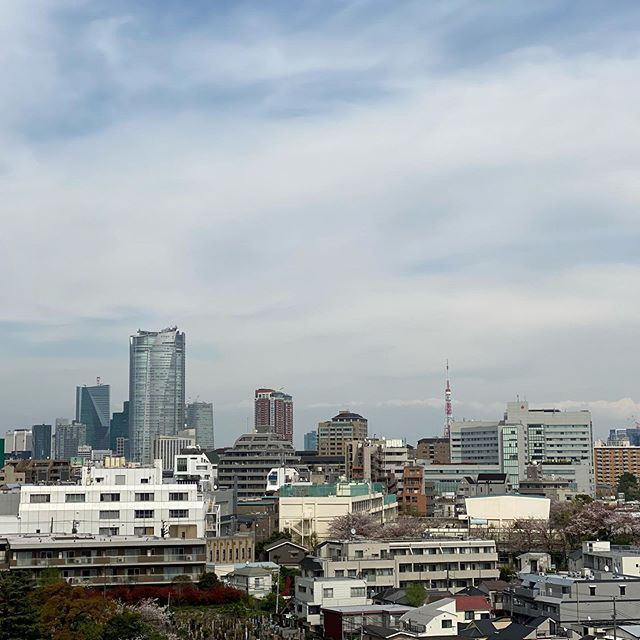building: (14, 460, 221, 564), (445, 406, 598, 497), (332, 535, 503, 603), (123, 323, 185, 473), (274, 485, 399, 542), (302, 408, 371, 456), (77, 380, 112, 448), (255, 379, 290, 447)
sky: (1, 1, 637, 410)
